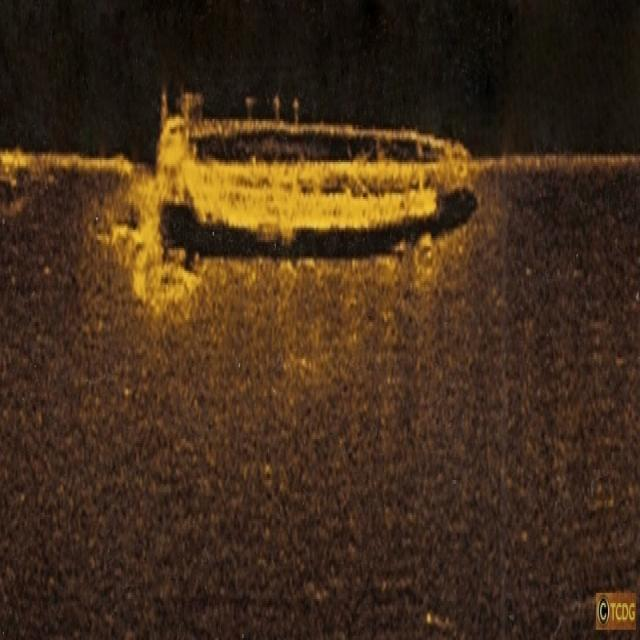ship: (154, 80, 473, 238)
